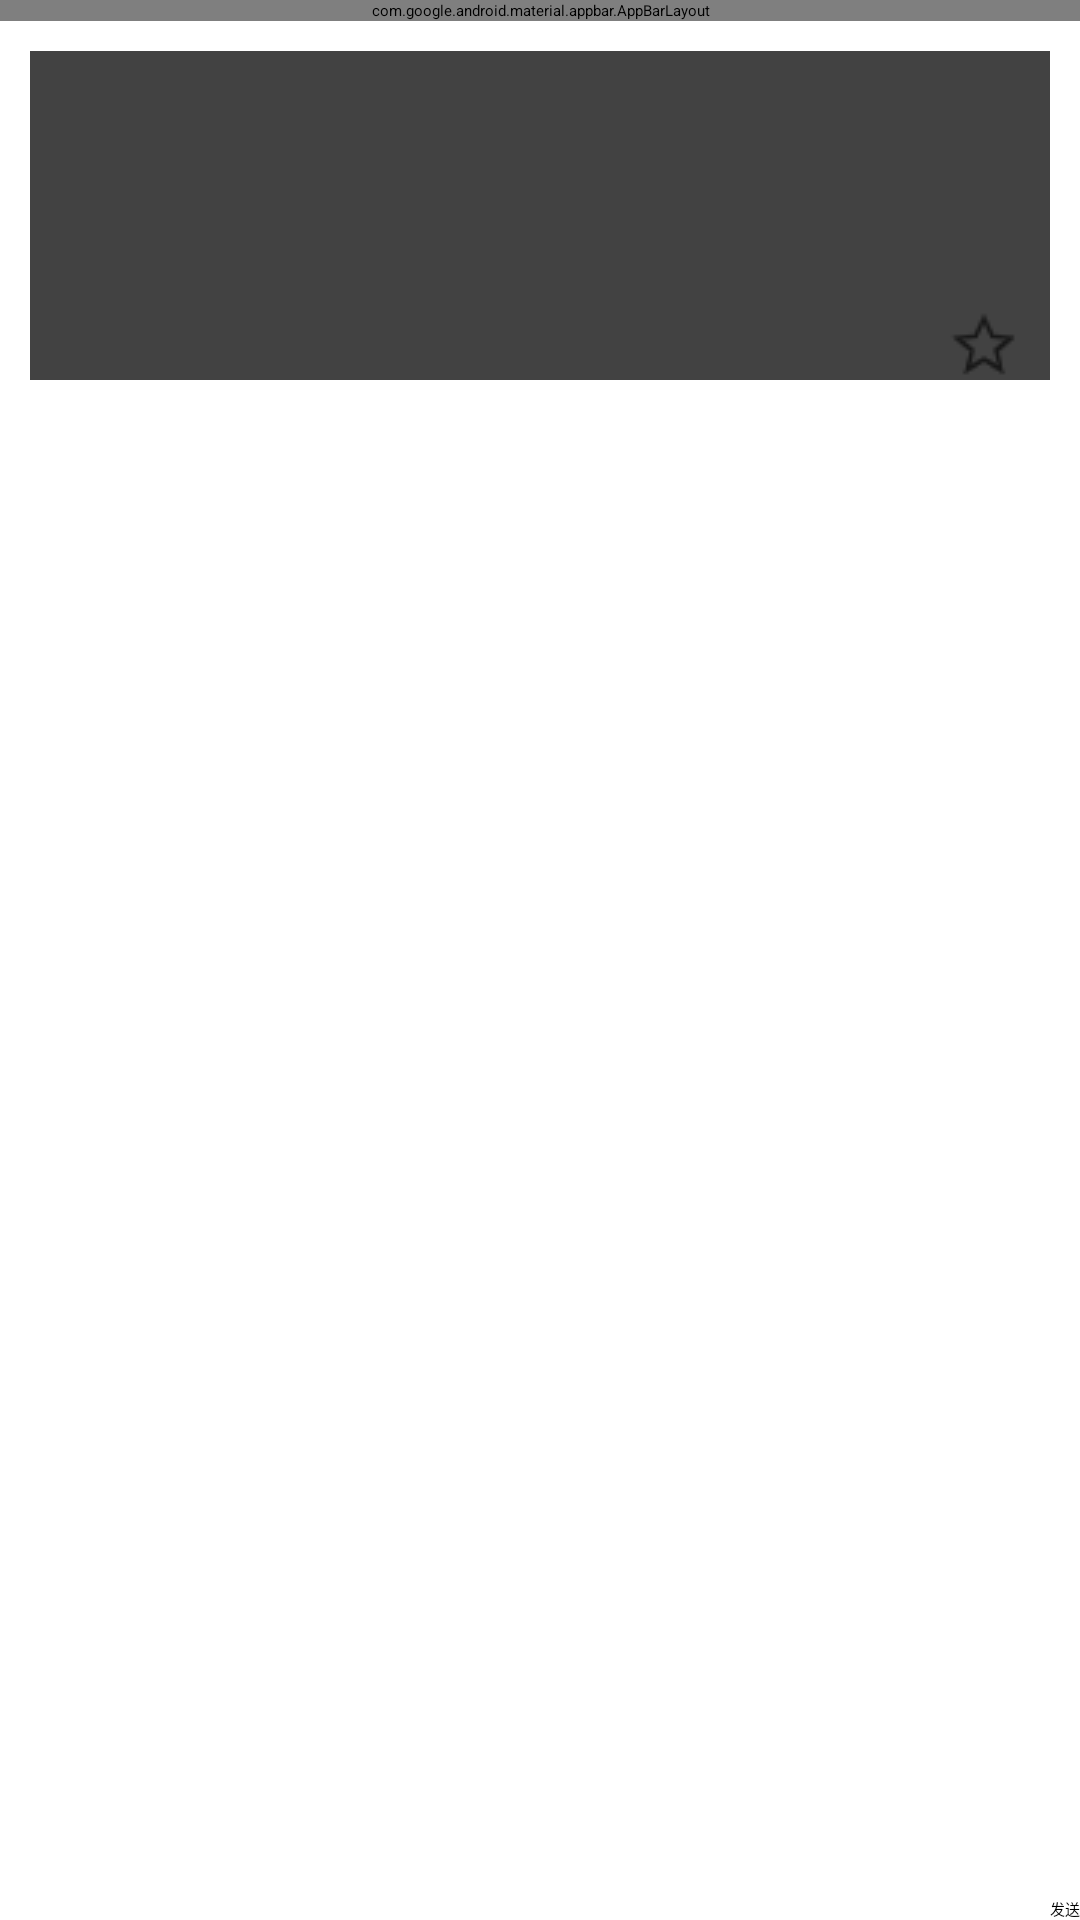

Screen size 1080*1920. Icon name, then its box in pixels as (x1, y1, x2, y2):
star: (955, 318, 1013, 372)
